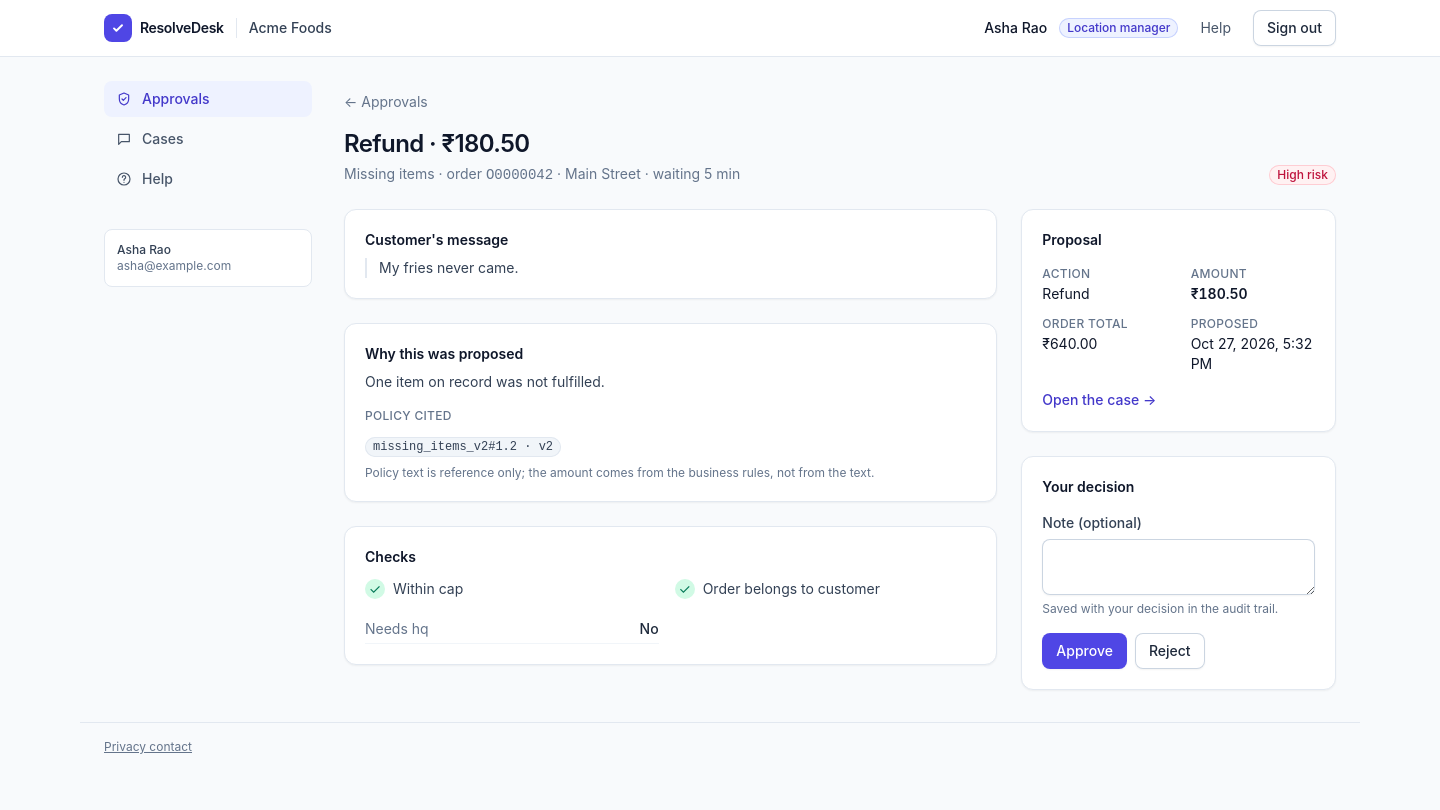
Test: approval detail › explains a 409 as already decided and hides the buttons
Check: the text "My fries never came." is shown, box x1=365 y1=258 x2=976 y2=278
Click the button "Approve" at (1085, 651), box x1=1042 y1=633 x2=1127 y2=669
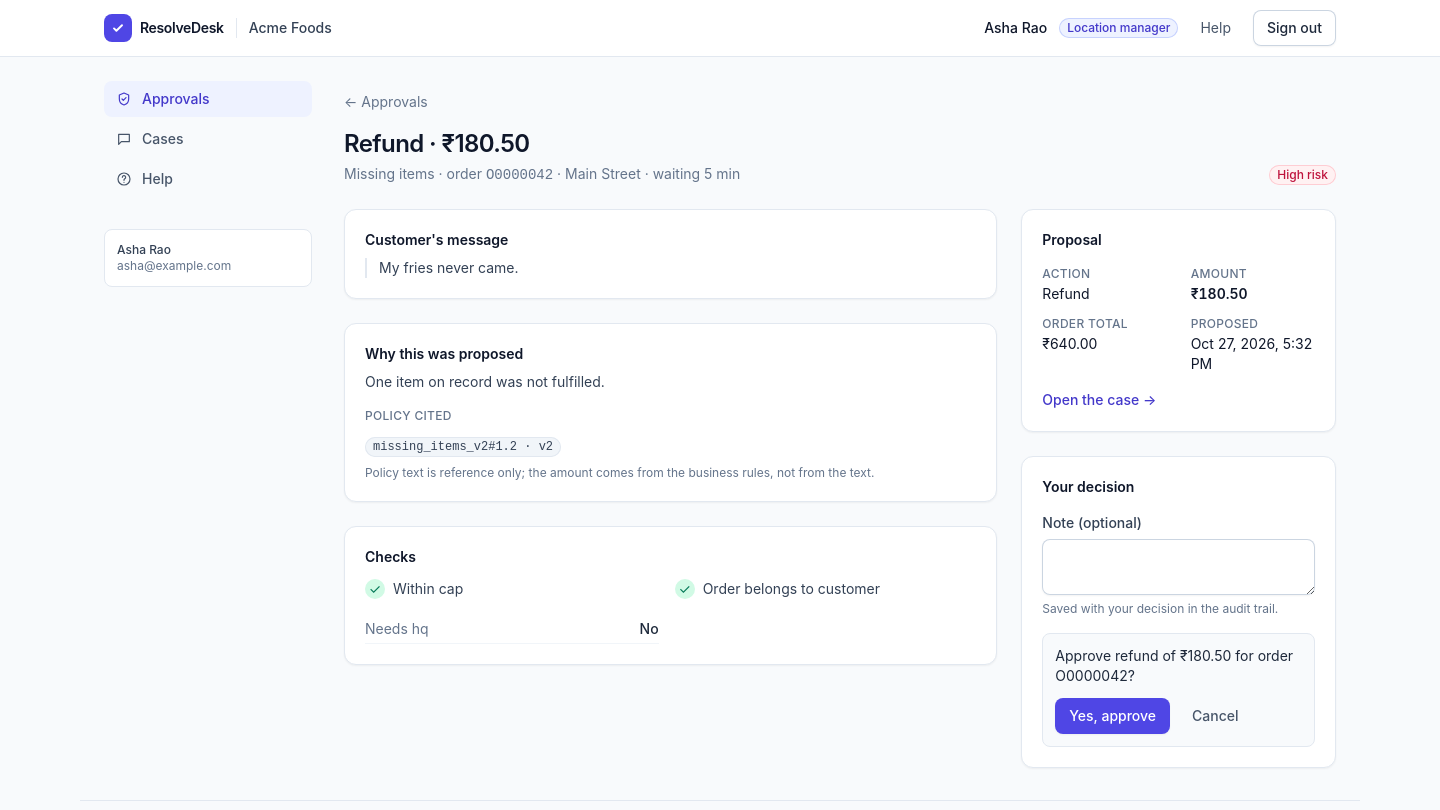
Check: the element named "Confirm decision" shows "₹180.50", box x1=1055 y1=647 x2=1293 y2=684
Click the button "Yes, approve" at (1113, 716), box x1=1055 y1=698 x2=1170 y2=734
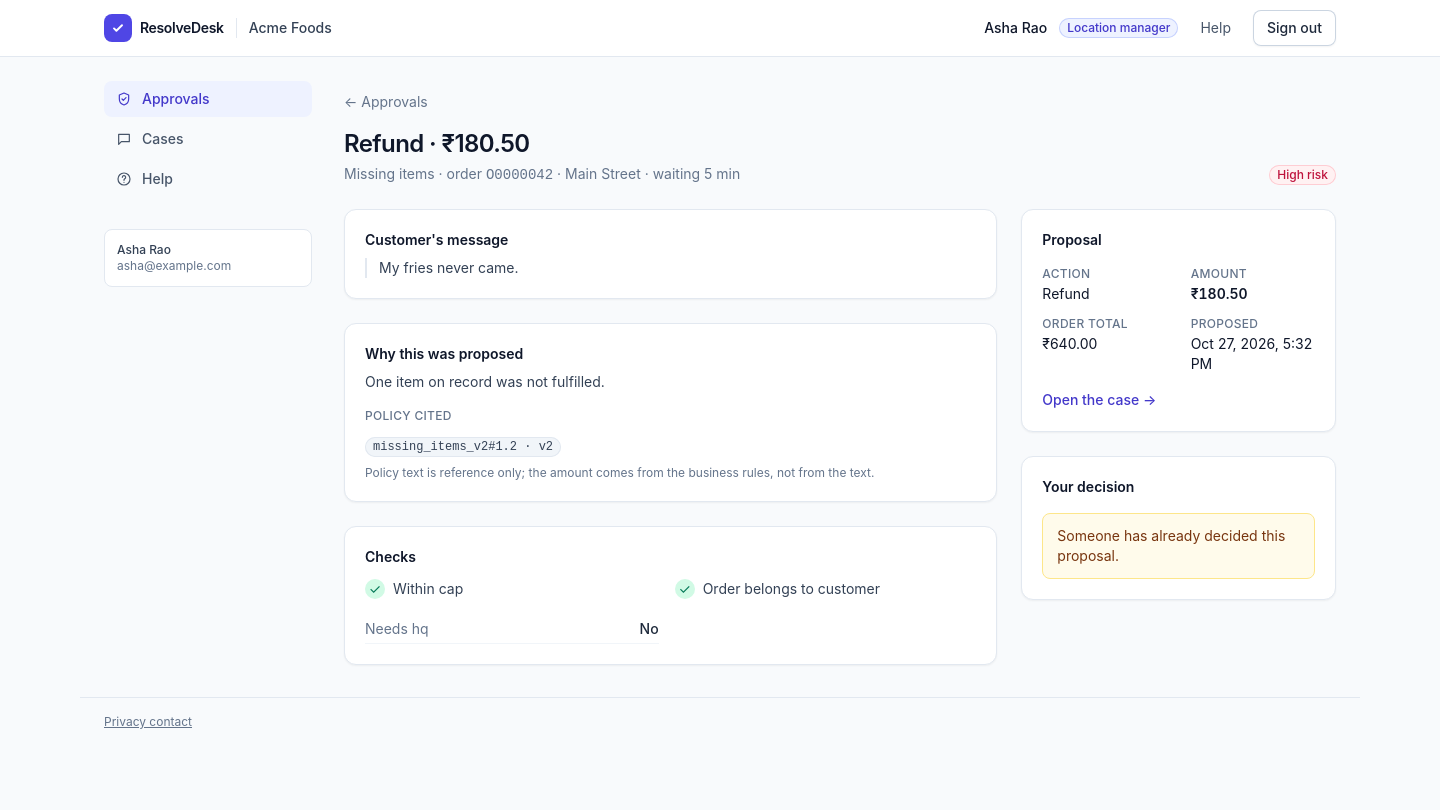
Check: the text "Someone has already decided this proposal." is shown, box x1=1042 y1=513 x2=1315 y2=579
Check: the text "Approve" is gone
